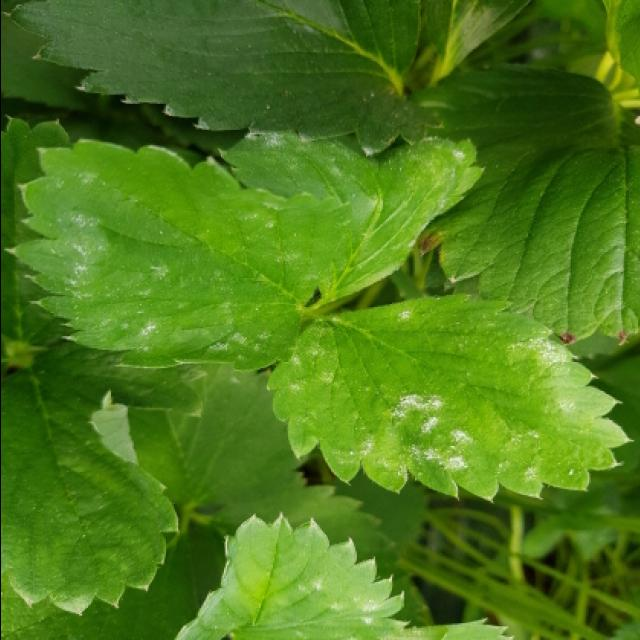Powdery Mildew Leaf: (4, 134, 352, 373), (264, 293, 635, 502), (216, 131, 486, 314), (172, 512, 410, 640)
